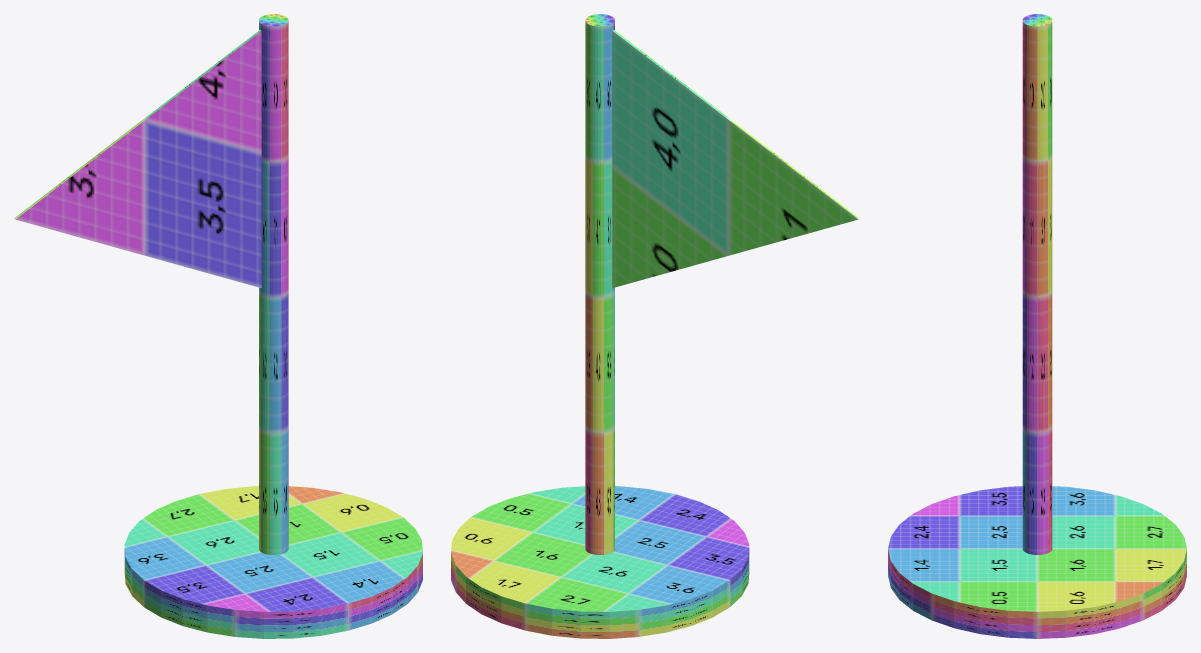
The model's file is Flag.obj.
3 views of the same model, side by side, from view 1: azimuth 30°, elevation 25°; view 2: azimuth 150°, elevation 25°; view 3: azimuth 270°, elevation 25° (orthographic).
Parts seen in each view (by area): view 1: 円柱; view 2: 円柱; view 3: 円柱.
Part boxes in pixels (<box>): 円柱: <box>14,14,422,638</box>; 円柱: <box>451,14,859,638</box>; 円柱: <box>888,14,1186,638</box>.
Bounding box in the file's own units: 3 × 4.1 × 2.
Materials: 1 (1 with a texture image).
